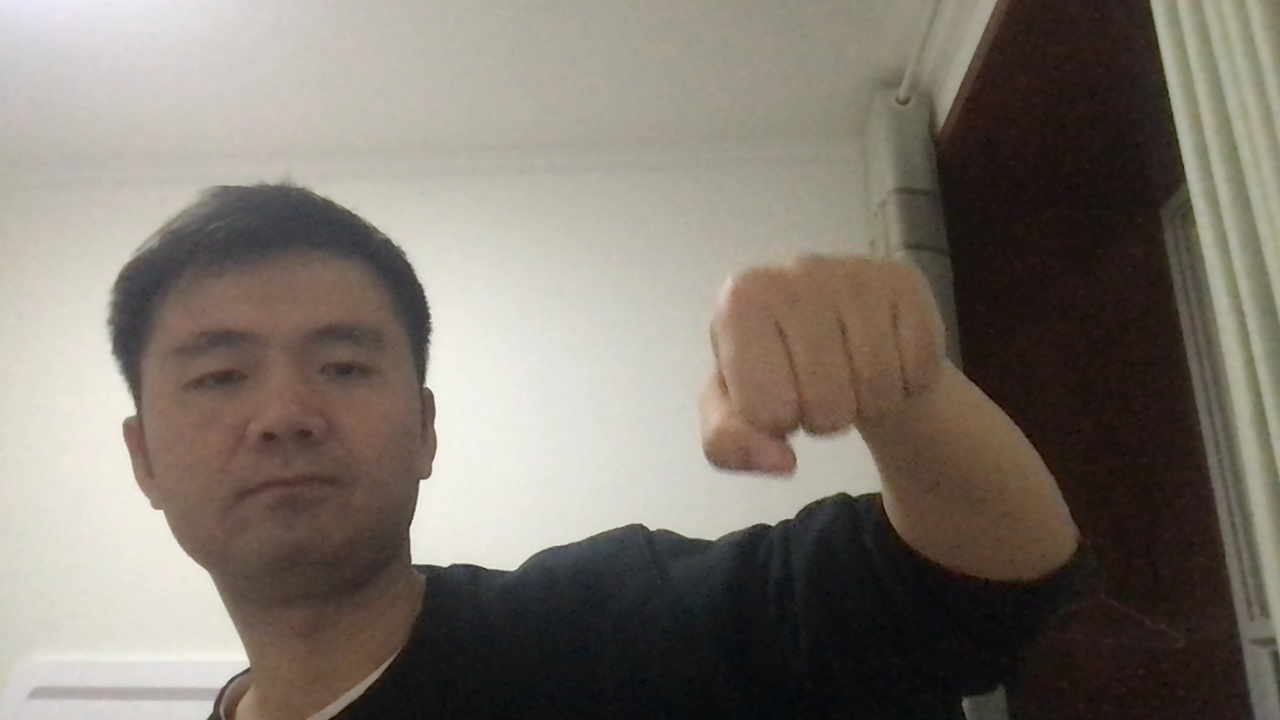ok: (681, 247, 989, 472)
